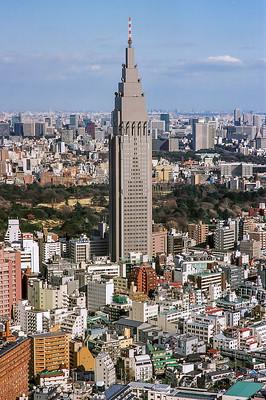building: (107, 40, 156, 274)
